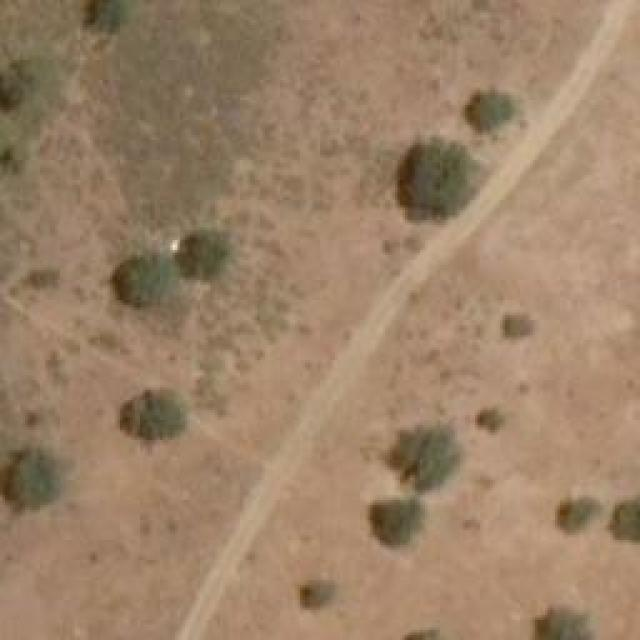Tree: (395, 143, 468, 213), (387, 425, 455, 493), (180, 225, 233, 283), (122, 390, 180, 438), (0, 452, 52, 505), (463, 87, 518, 135), (370, 498, 418, 551), (122, 255, 170, 303), (530, 607, 590, 640), (85, 0, 130, 38), (607, 497, 640, 542), (295, 580, 333, 618), (560, 498, 598, 531), (477, 410, 505, 435), (500, 315, 530, 338), (0, 73, 20, 106)
